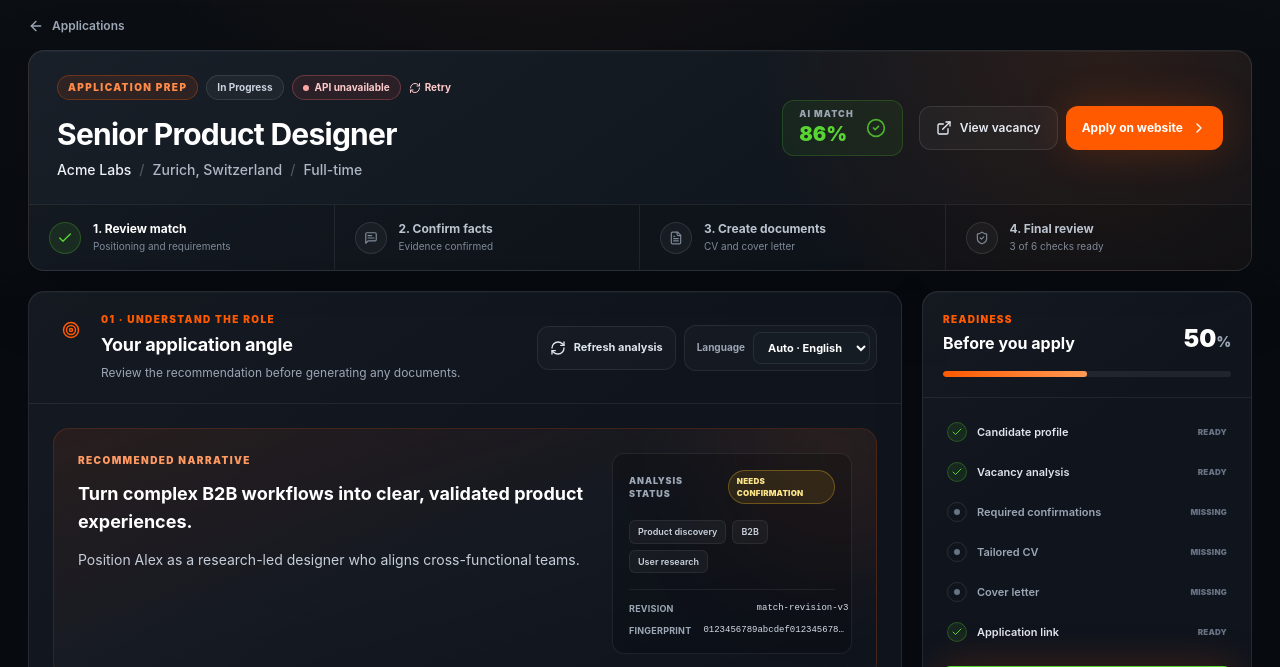
ApplicationWorkspace › stops hung loaders, reports API unavailable, and retries
Expected: the text "API unavailable" is shown, [292,75,401,100]
Click the button "Retry".
click(430, 88)  # box [409,80,451,95]
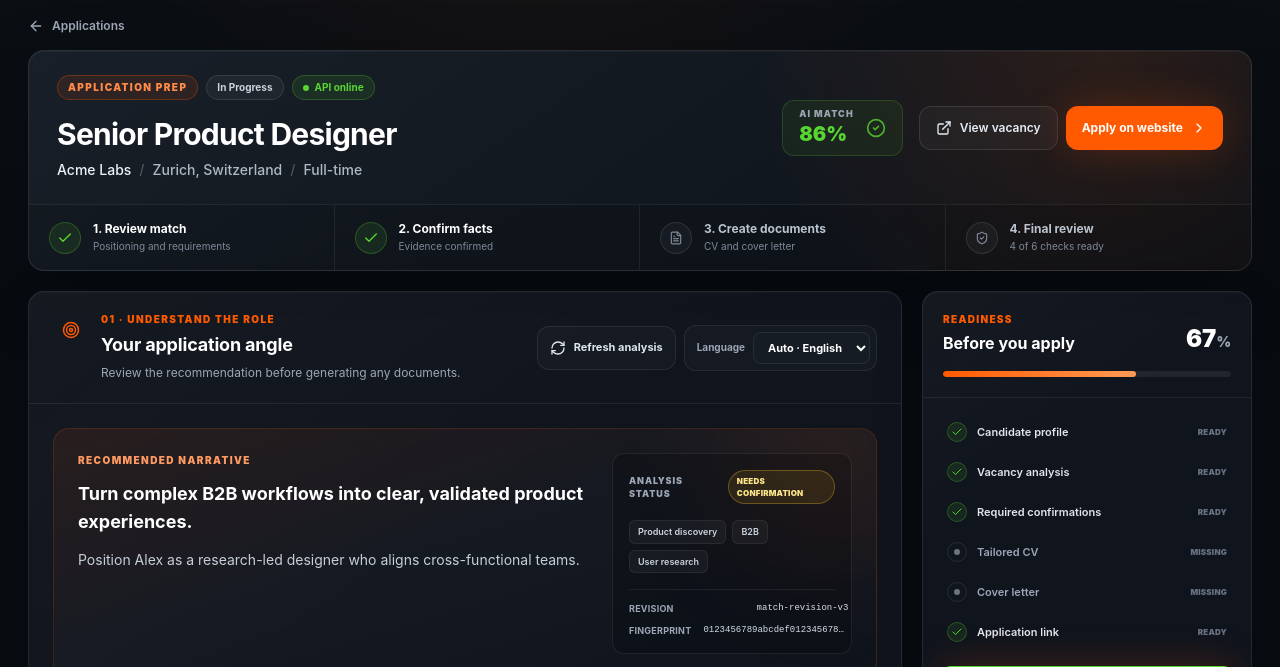
Result: the text "API online" is shown at [292,75,375,100]
